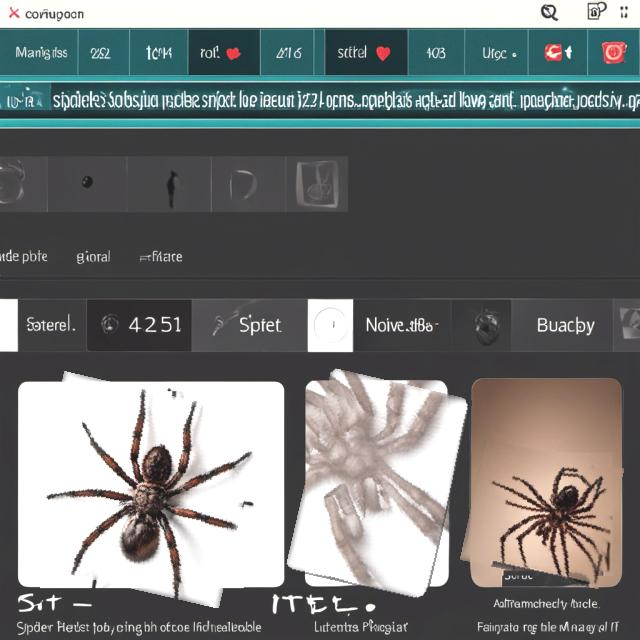spider: (30, 381, 254, 598), (296, 374, 462, 594), (466, 446, 618, 582)
